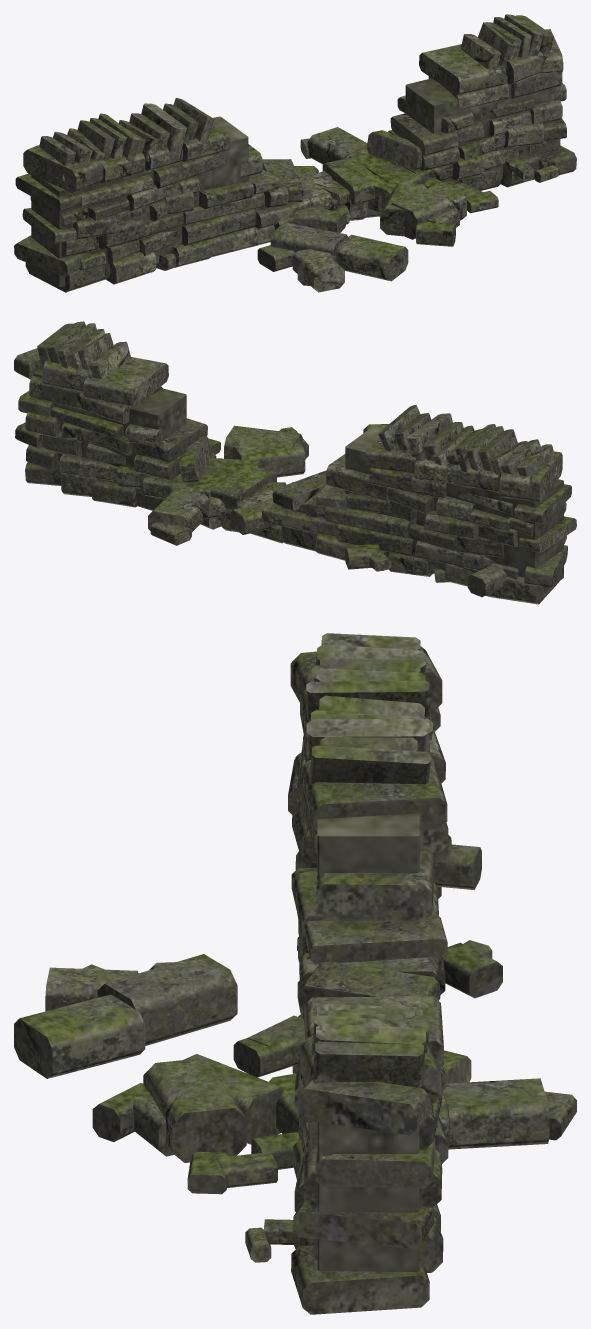
Rendered from wall_gap.glb.
3 renders of one model, top to bottom at view 1: azimuth 30°, elevation 25°; view 2: azimuth 150°, elevation 25°; view 3: azimuth 270°, elevation 25°, orthographic. The views are drawn at different scales.
Visible parts, largest first — view 1: wall_gap; view 2: wall_gap; view 3: wall_gap.
Boxes of the visible parts, box(x1,y1,x2,y2) form: wall_gap: box(14, 14, 576, 292); wall_gap: box(14, 321, 576, 604); wall_gap: box(14, 633, 576, 1314).
Size of the model in its own units: 4.29 by 1.12 by 2.2.
Materials: 1 (1 with a texture image).
